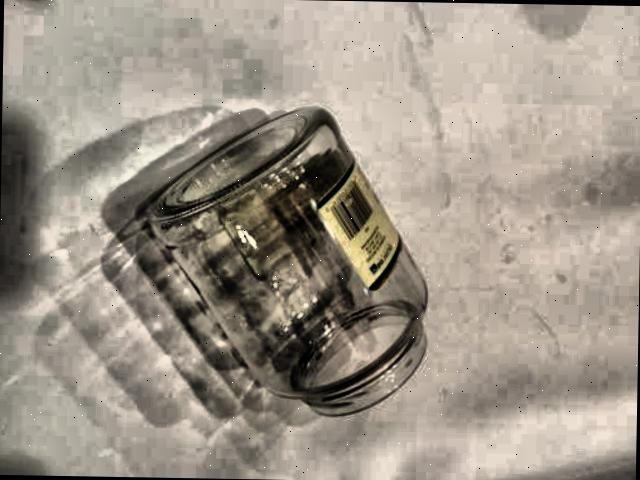Almennt: (98, 79, 489, 458)
